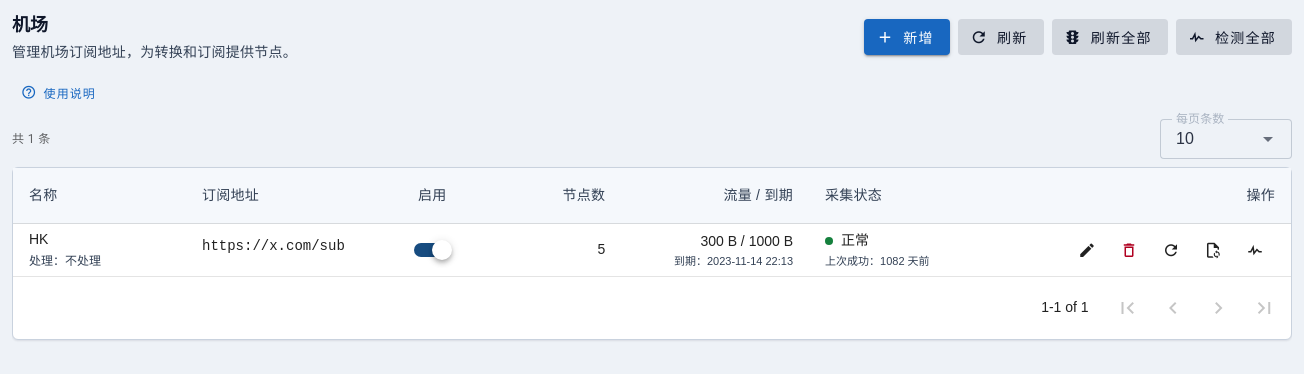
Test: AirportsPage › D-24 测活请求失败时只显示错误，不显示汇总
Click the button with test id "check-all".
click(1234, 38)  # box [1176,20,1292,56]
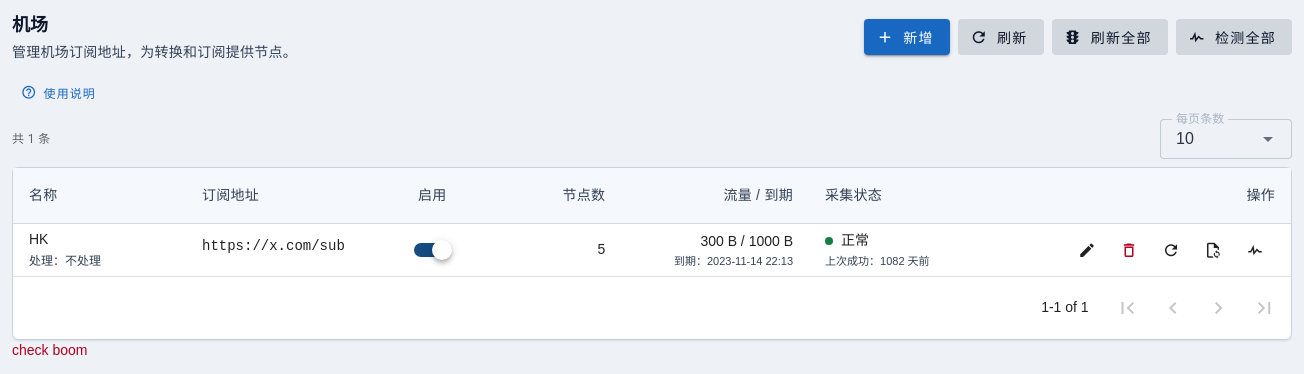
Expected: the text with test id "check-error" reads "check boom", [12,342,88,358]
